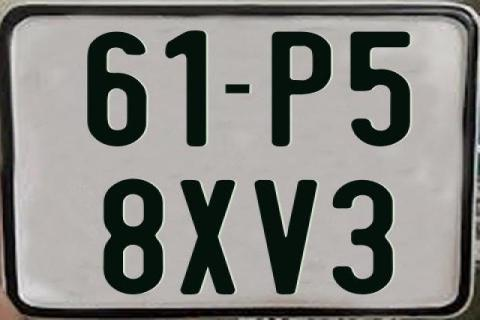0: (86, 31, 151, 151), (102, 177, 166, 297), (349, 30, 413, 148), (329, 180, 391, 297), (162, 28, 207, 149)
P: (270, 29, 332, 147)
V: (252, 179, 315, 297)
X: (180, 178, 236, 298)
